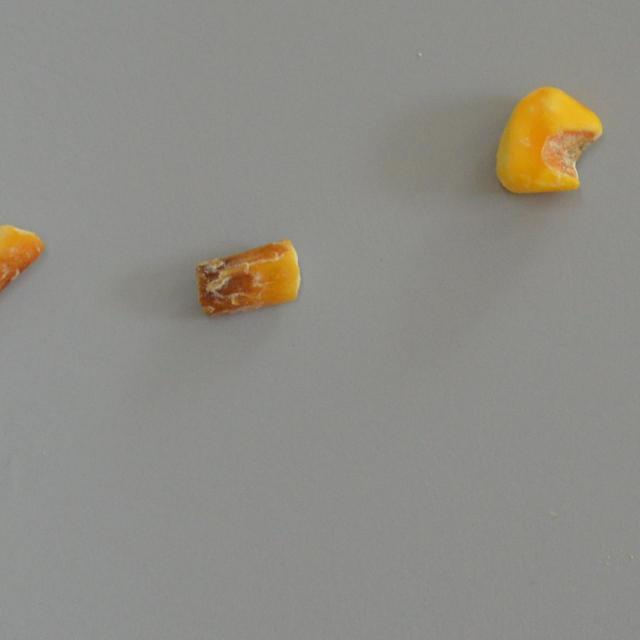dañado: (489, 78, 606, 201), (192, 234, 304, 320), (0, 220, 46, 329)
